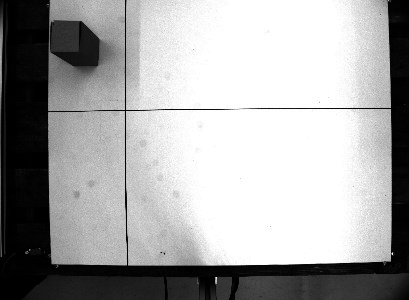b2: (49, 18, 101, 68)
